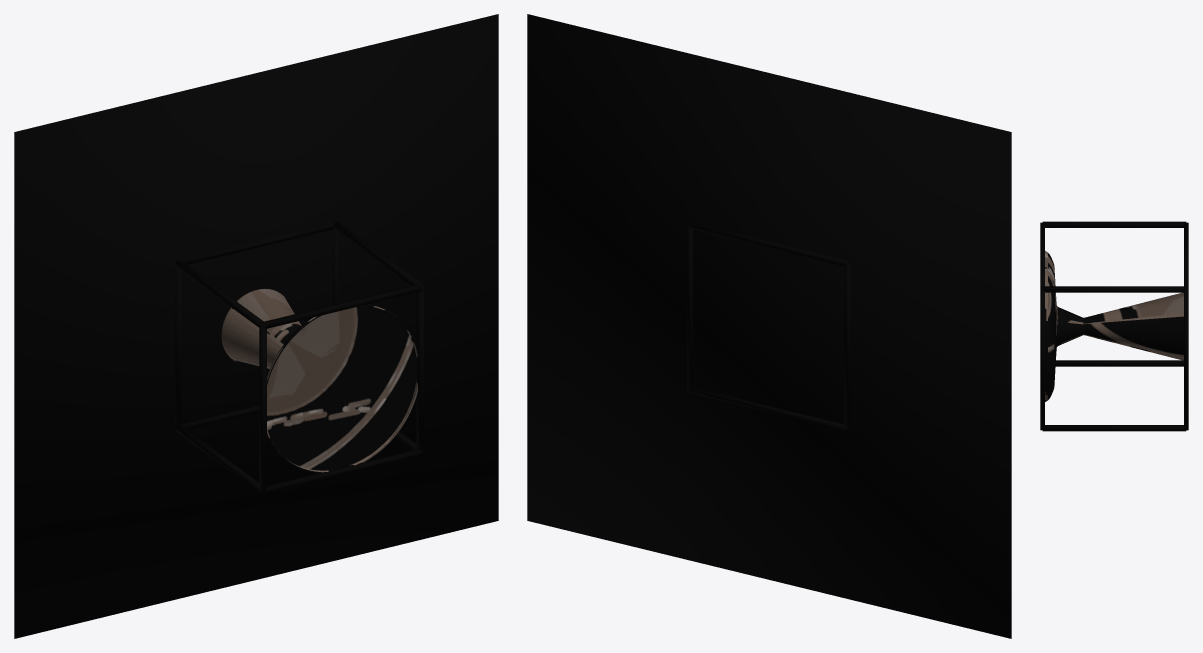
3 views of the same model, side by side, from view 1: azimuth 30°, elevation 25°; view 2: azimuth 150°, elevation 25°; view 3: azimuth 270°, elevation 25° (orthographic). The views are drawn at different scales.
Size of the model in its own units: 2 by 2 by 0.6307.
